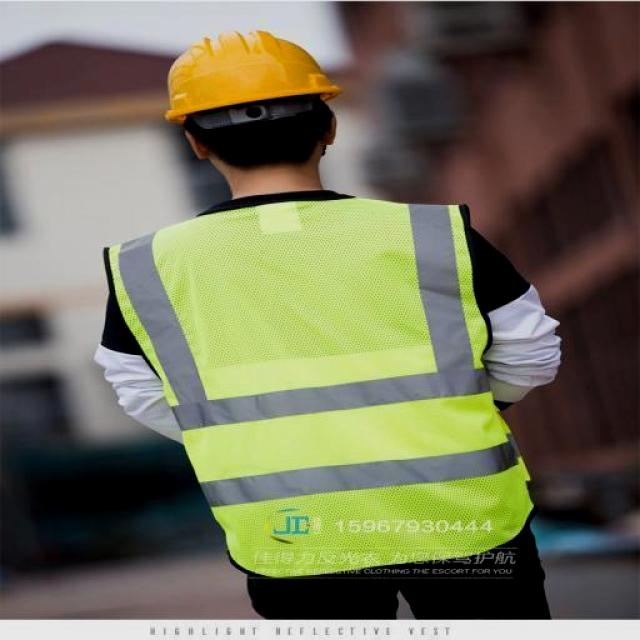head_helmet: (152, 26, 360, 186)
person: (77, 23, 564, 616)
vest: (93, 192, 548, 578)
